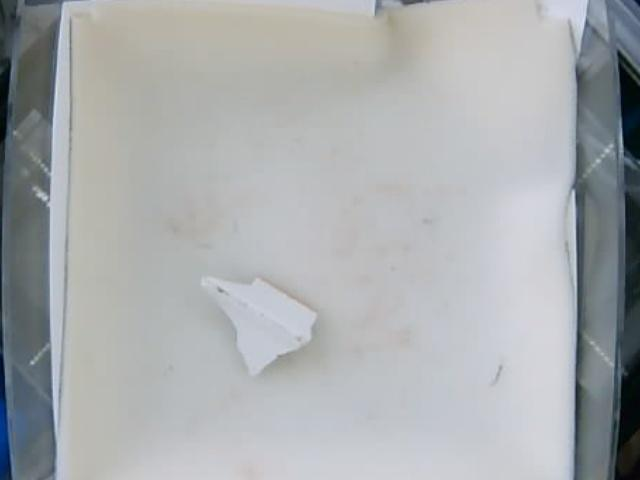China: (201, 270, 319, 374)
